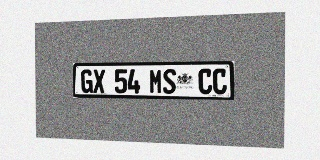4: (128, 69, 140, 93)
5: (115, 69, 127, 93)
C: (198, 68, 212, 94), (213, 68, 227, 94)
G: (81, 69, 93, 93)
M: (149, 69, 162, 94)
S: (163, 69, 176, 94)
X: (93, 69, 105, 93)
